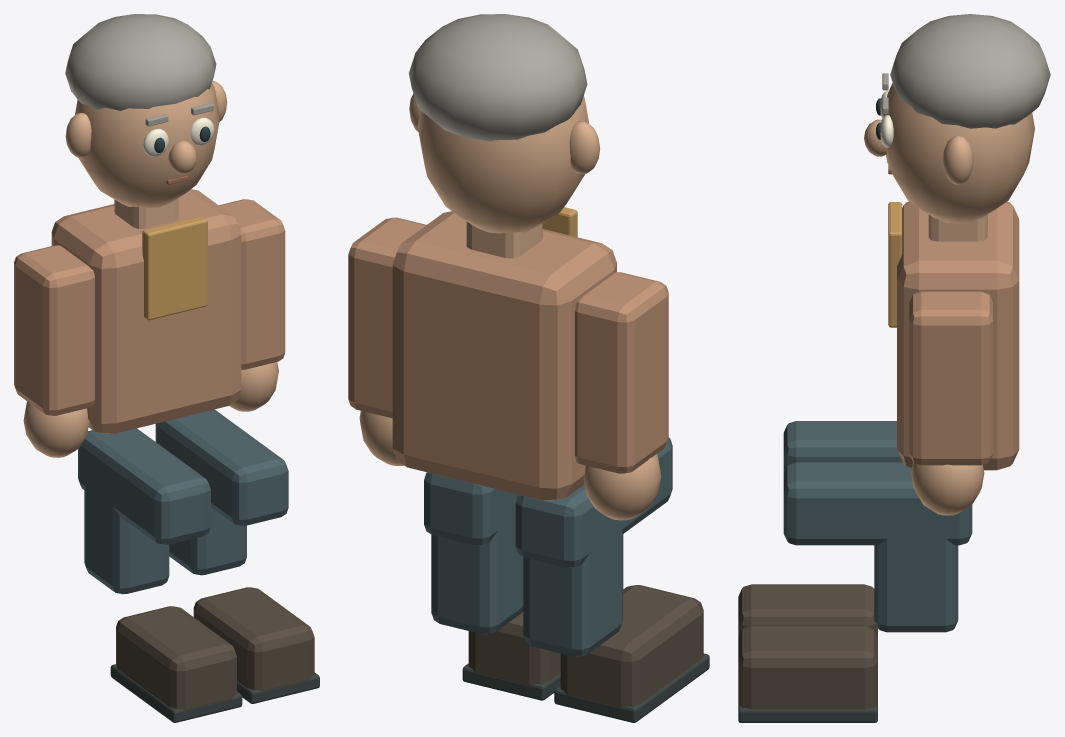
The model's file is resident.glb.
3 renders of one model, left to right at view 1: azimuth 30°, elevation 25°; view 2: azimuth 150°, elevation 25°; view 3: azimuth 270°, elevation 25°, orthographic. The views are drawn at different scales.
Parts seen in each view (by area): view 1: Jacket, Sleeve, Hair cap, Bent knee, Face, Boot, Bent knee.001, Boot.001, Sleeve.001, Shirt, Trouser leg, Trouser leg.001 (+7 smaller); view 2: Jacket, Hair cap, Sleeve, Face, Boot, Trouser leg, Sleeve.001, Trouser leg.001, Bent knee, Bent knee.001, Boot.001, Hand (+6 smaller); view 3: Jacket, Sleeve.001, Hair cap, Bent knee.001, Boot.001, Face, Trouser leg.001, Boot, Bent knee, Hand.001, Sole.001, Shirt (+3 smaller).
Part boxes in pixels (bbox=[...]): Jacket: bbox=[51, 189, 241, 433]; Sleeve: bbox=[14, 245, 94, 415]; Hair cap: bbox=[65, 14, 216, 110]; Bent knee: bbox=[78, 428, 210, 544]; Face: bbox=[75, 83, 219, 207]; Boot: bbox=[116, 606, 236, 710]; Bent knee.001: bbox=[155, 409, 288, 525]; Boot.001: bbox=[193, 587, 314, 691]; Sleeve.001: bbox=[219, 199, 285, 369]; Shirt: bbox=[142, 216, 207, 320]; Trouser leg: bbox=[84, 486, 169, 594]; Trouser leg.001: bbox=[169, 507, 246, 575]; Jacket: bbox=[392, 211, 616, 500]; Hair cap: bbox=[408, 14, 587, 141]; Sleeve: bbox=[575, 272, 668, 473]; Face: bbox=[417, 95, 589, 233]; Boot: bbox=[560, 585, 703, 707]; Trouser leg: bbox=[523, 529, 623, 656]; Sleeve.001: bbox=[348, 217, 426, 418]; Trouser leg.001: bbox=[431, 517, 523, 634]; Bent knee: bbox=[515, 437, 672, 567]; Bent knee.001: bbox=[424, 472, 517, 545]; Boot.001: bbox=[468, 612, 560, 685]; Hand: bbox=[583, 454, 661, 520]; Jacket: bbox=[897, 201, 1019, 470]; Sleeve.001: bbox=[909, 291, 992, 465]; Hair cap: bbox=[890, 14, 1050, 128]; Bent knee.001: bbox=[783, 462, 972, 545]; Boot.001: bbox=[738, 625, 877, 709]; Face: bbox=[883, 83, 1034, 223]; Trouser leg.001: bbox=[874, 539, 958, 632]; Boot: bbox=[738, 584, 877, 637]; Bent knee: bbox=[783, 421, 902, 473]; Hand.001: bbox=[911, 462, 984, 515]; Sole.001: bbox=[738, 705, 877, 722]; Shirt: bbox=[888, 202, 902, 327].
Bounding box in the file's own units: 0.89 × 2.09 × 0.895.
